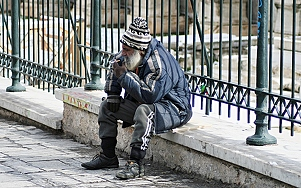Person: (81, 17, 197, 183)
